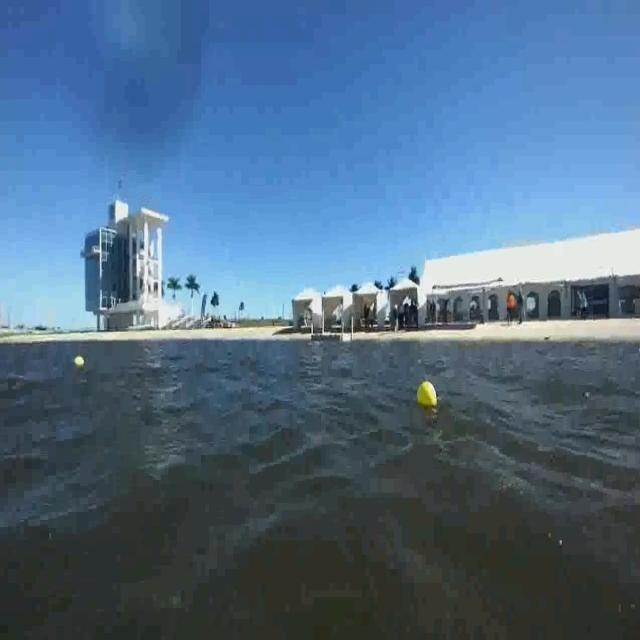yellow-buoy: (417, 378, 438, 406), (74, 353, 86, 370)
